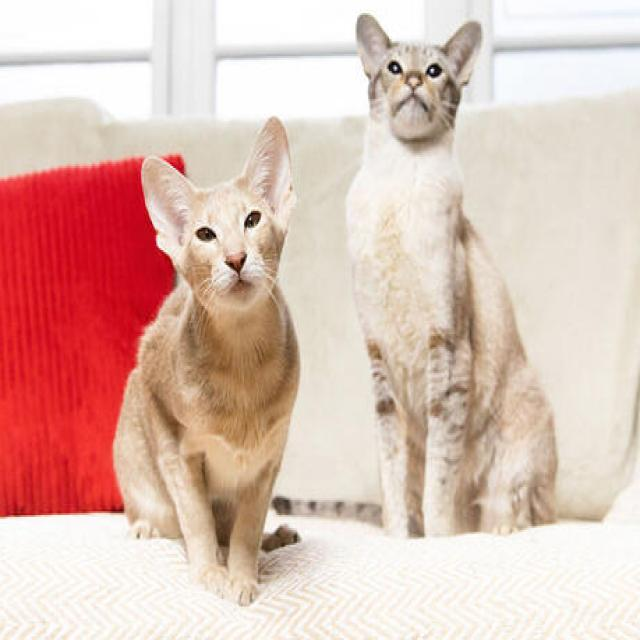Oriental: (341, 11, 563, 542), (109, 111, 305, 610)
